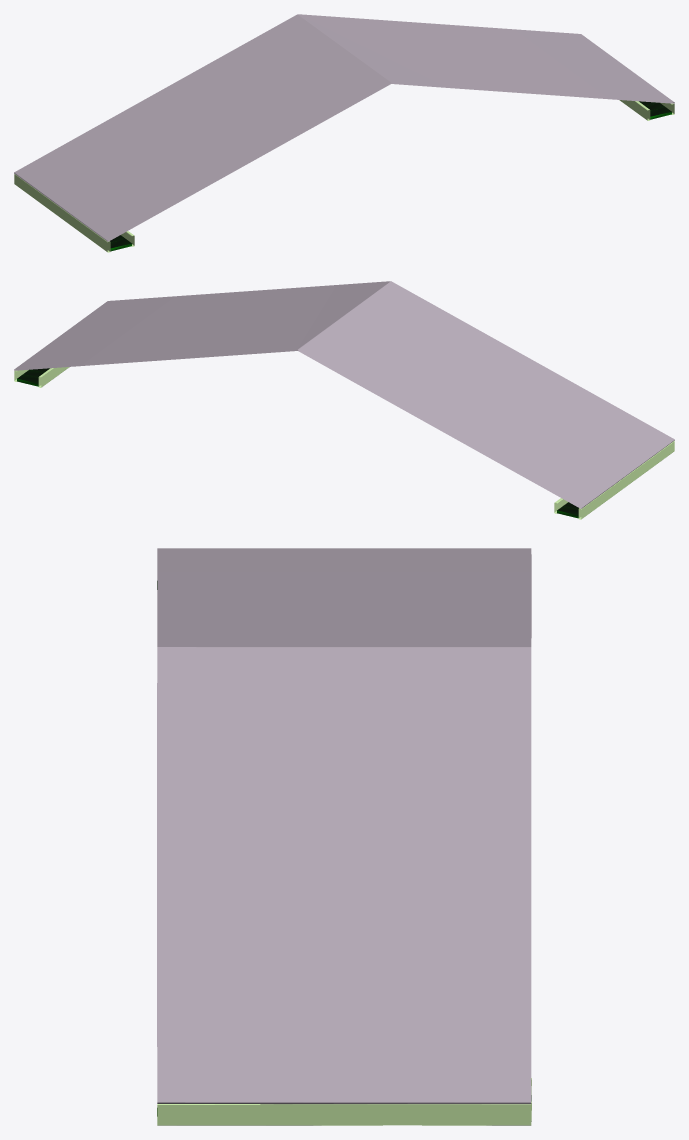
File: SM_House_Roof_B_Mid.fbx
The picture shows the model from 3 angles, top to bottom: view 1: azimuth 30°, elevation 25°; view 2: azimuth 150°, elevation 25°; view 3: azimuth 270°, elevation 25°; orthographic projection. The views are drawn at different scales.
Parts seen in each view (by area): view 1: SM_House_Roof_B_Mid; view 2: SM_House_Roof_B_Mid; view 3: SM_House_Roof_B_Mid.
Part boxes in pixels (x1,y1,x2,y2): SM_House_Roof_B_Mid: (14, 14, 674, 252); SM_House_Roof_B_Mid: (14, 281, 674, 519); SM_House_Roof_B_Mid: (157, 548, 531, 1125).
Size of the model in its own units: 1051 by 301 by 179.
